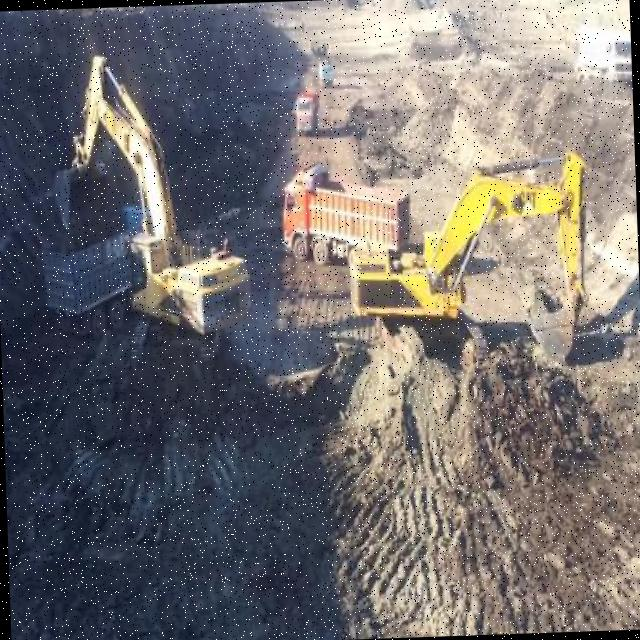Dump Truck: (279, 159, 409, 262), (41, 234, 133, 337), (578, 23, 632, 82), (296, 87, 314, 132), (316, 56, 332, 80)
Excavator: (49, 48, 258, 368), (343, 144, 598, 372)
